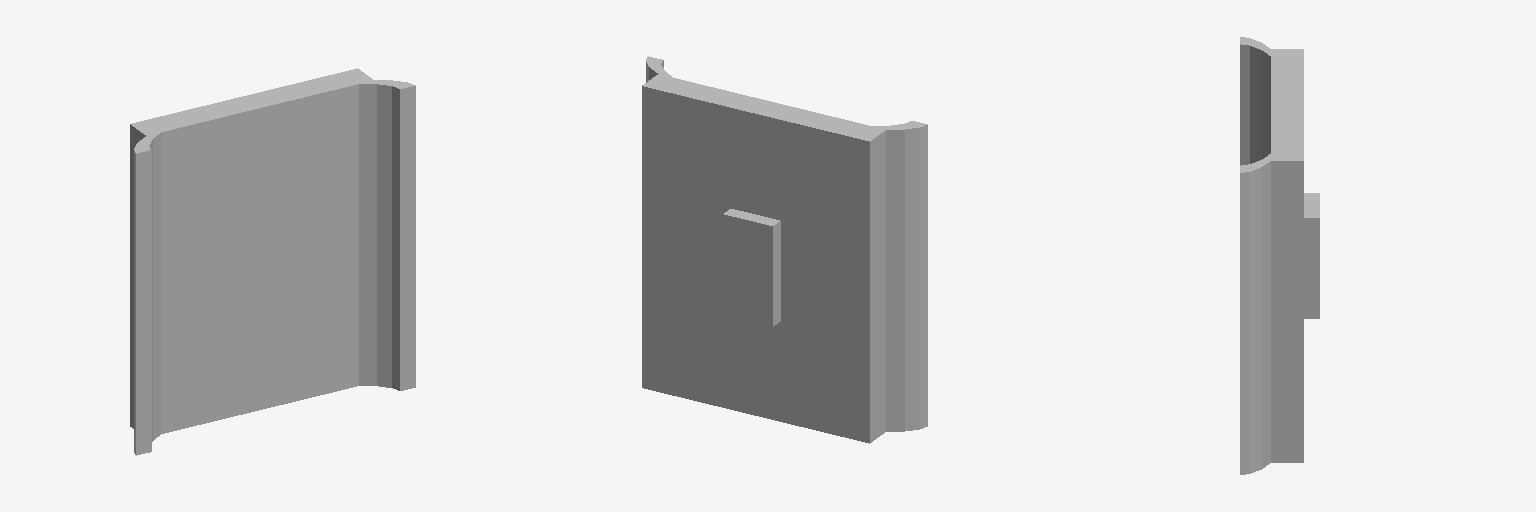
The model's file is RadialJoint.obj.
3 renders of one model, left to right at view 1: azimuth 30°, elevation 25°; view 2: azimuth 150°, elevation 25°; view 3: azimuth 270°, elevation 25°, orthographic.
Parts seen in each view (by area): view 1: Cube, Cube.001; view 2: Cube, Cube.001; view 3: Cube.001, Cube.
Part boxes in pixels (left/top/right/bottom): Cube: left=169, top=78, right=335, bottom=427; Cube.001: left=130, top=68, right=415, bottom=455; Cube: left=681, top=84, right=846, bottom=433; Cube.001: left=642, top=56, right=927, bottom=443; Cube.001: left=1240, top=37, right=1303, bottom=474; Cube: left=1271, top=68, right=1319, bottom=318.
Size of the model in its own units: 3.72 by 3.83 by 0.9197.